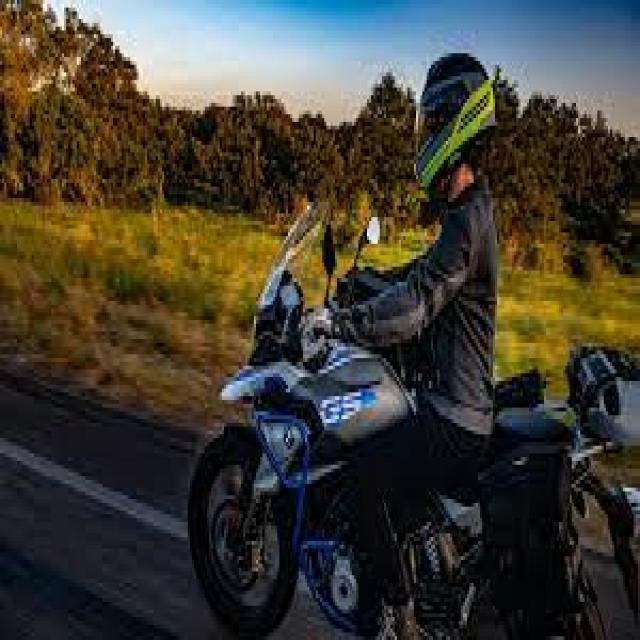Bike: (185, 198, 638, 640)
